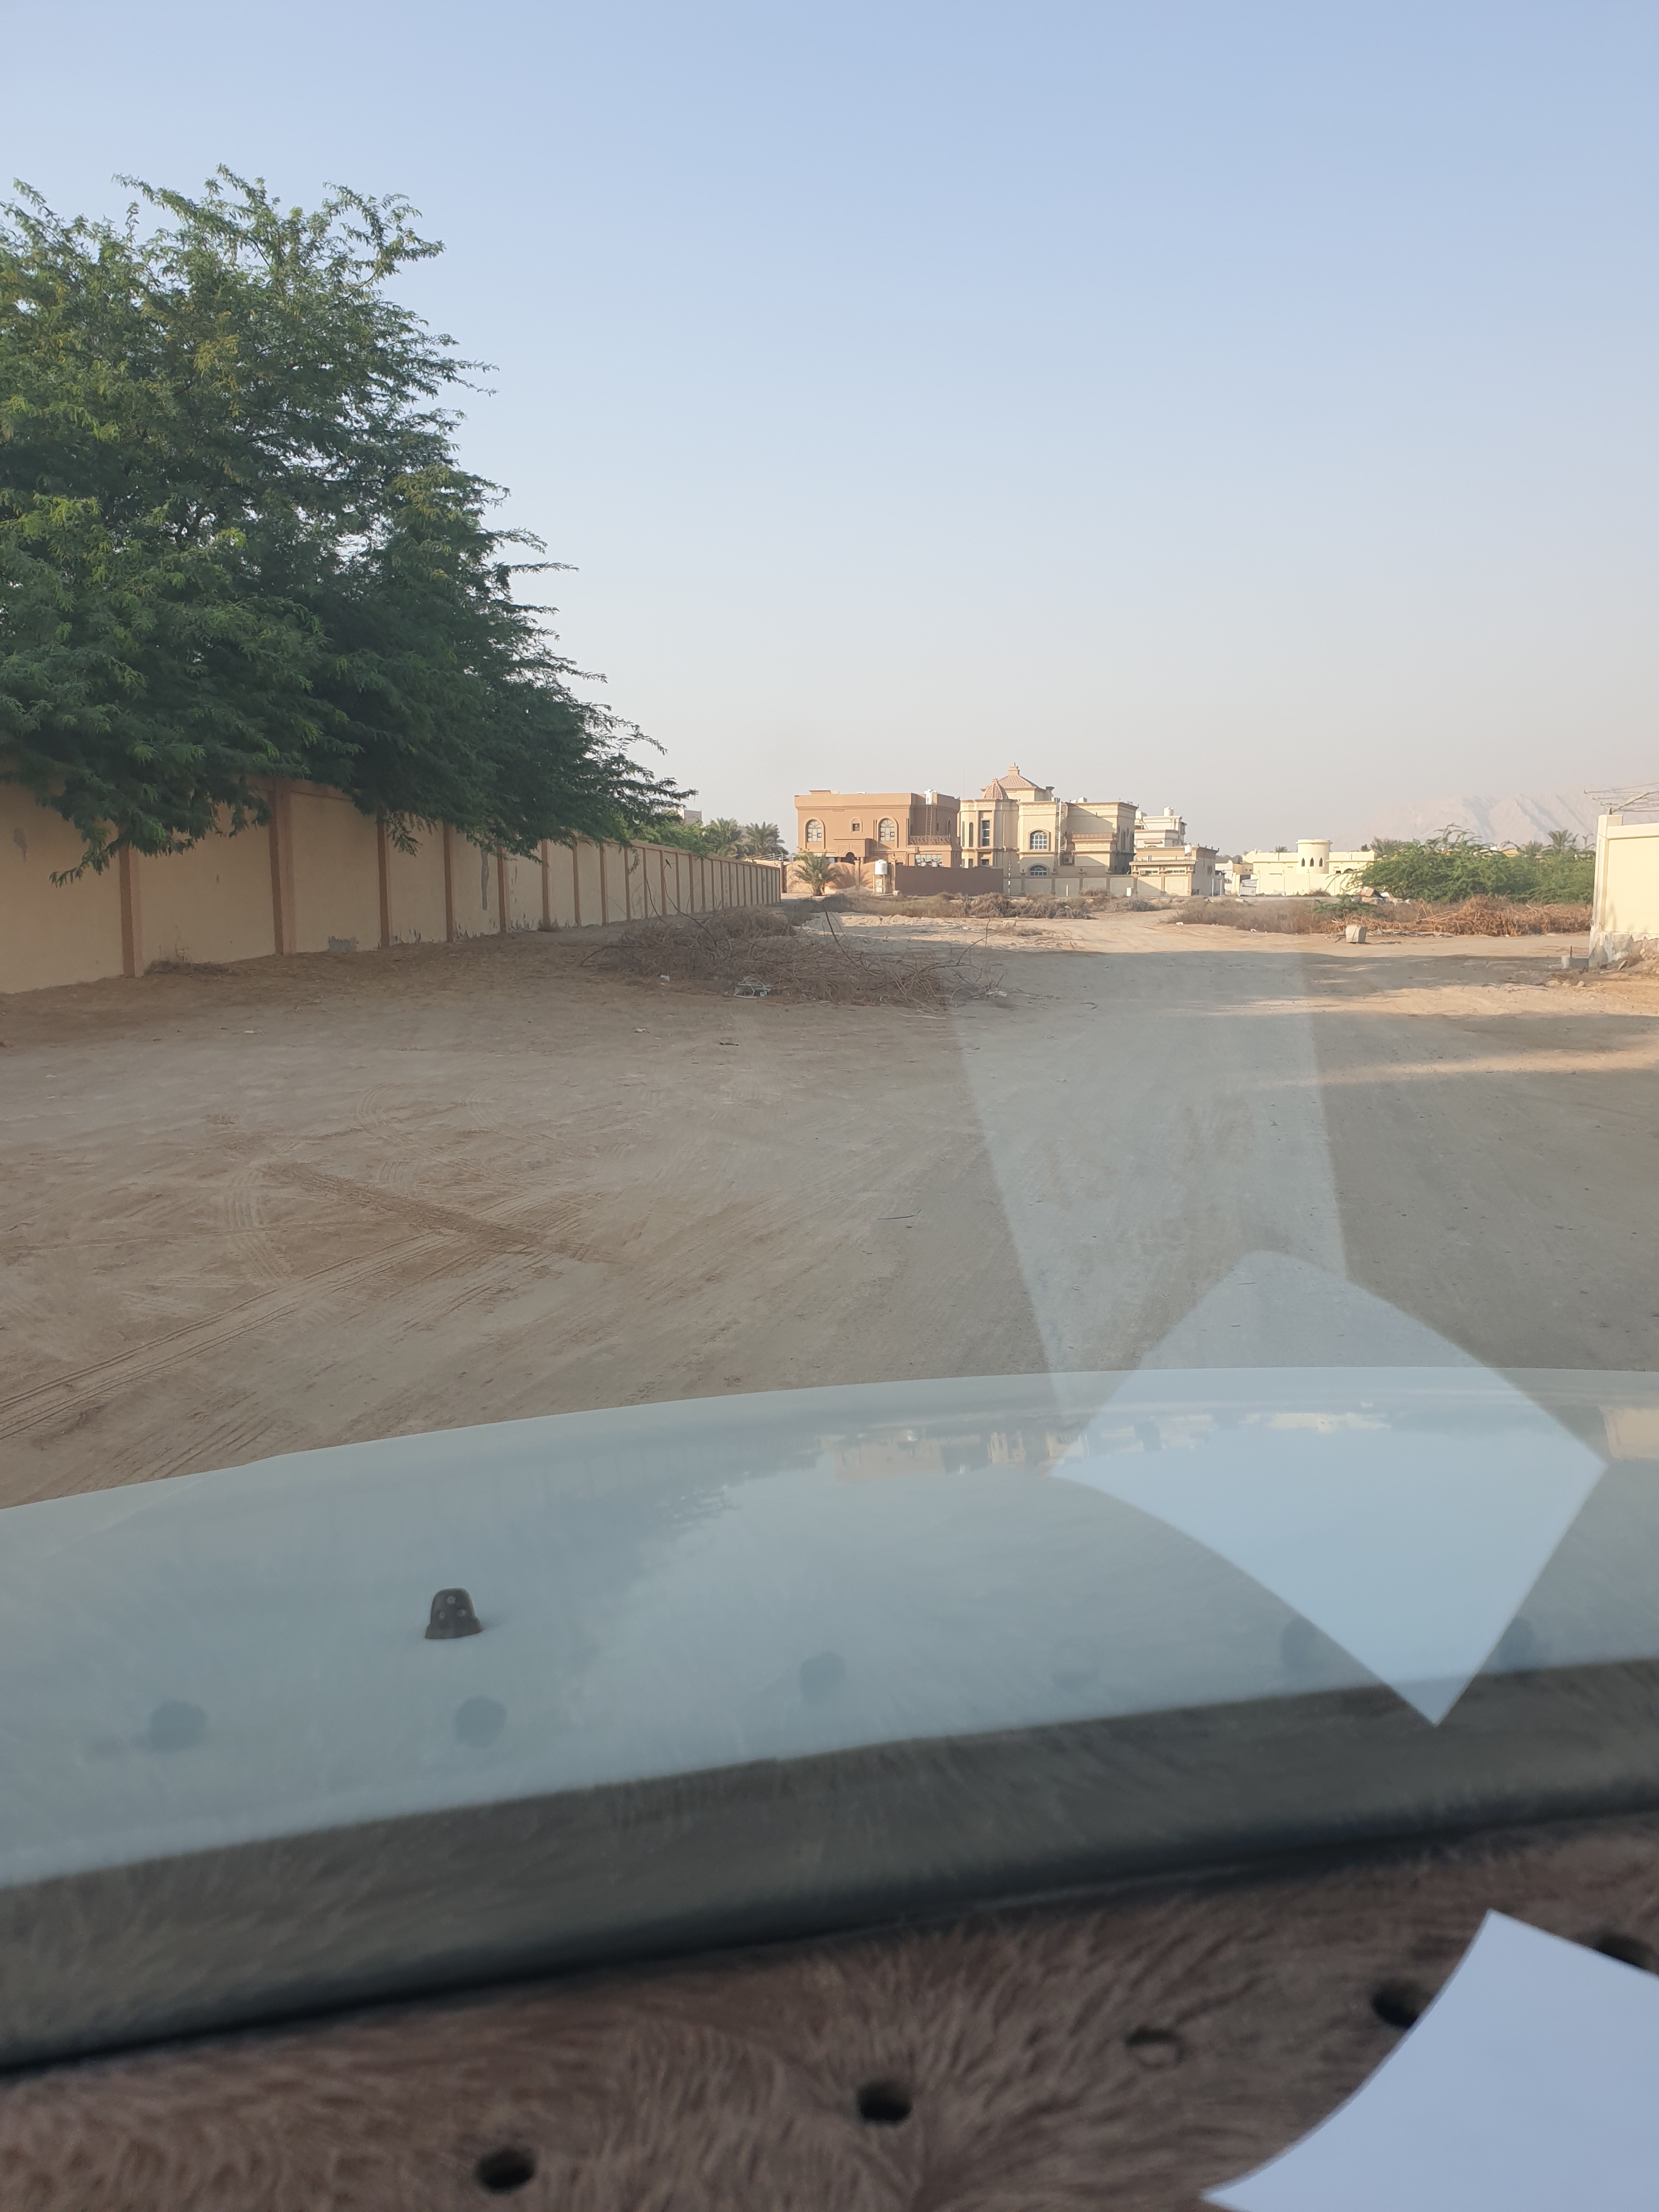fallen_trees: (641, 935, 1028, 1021), (718, 958, 877, 1010), (882, 961, 1021, 1010), (1391, 909, 1565, 939), (979, 916, 1075, 948)
